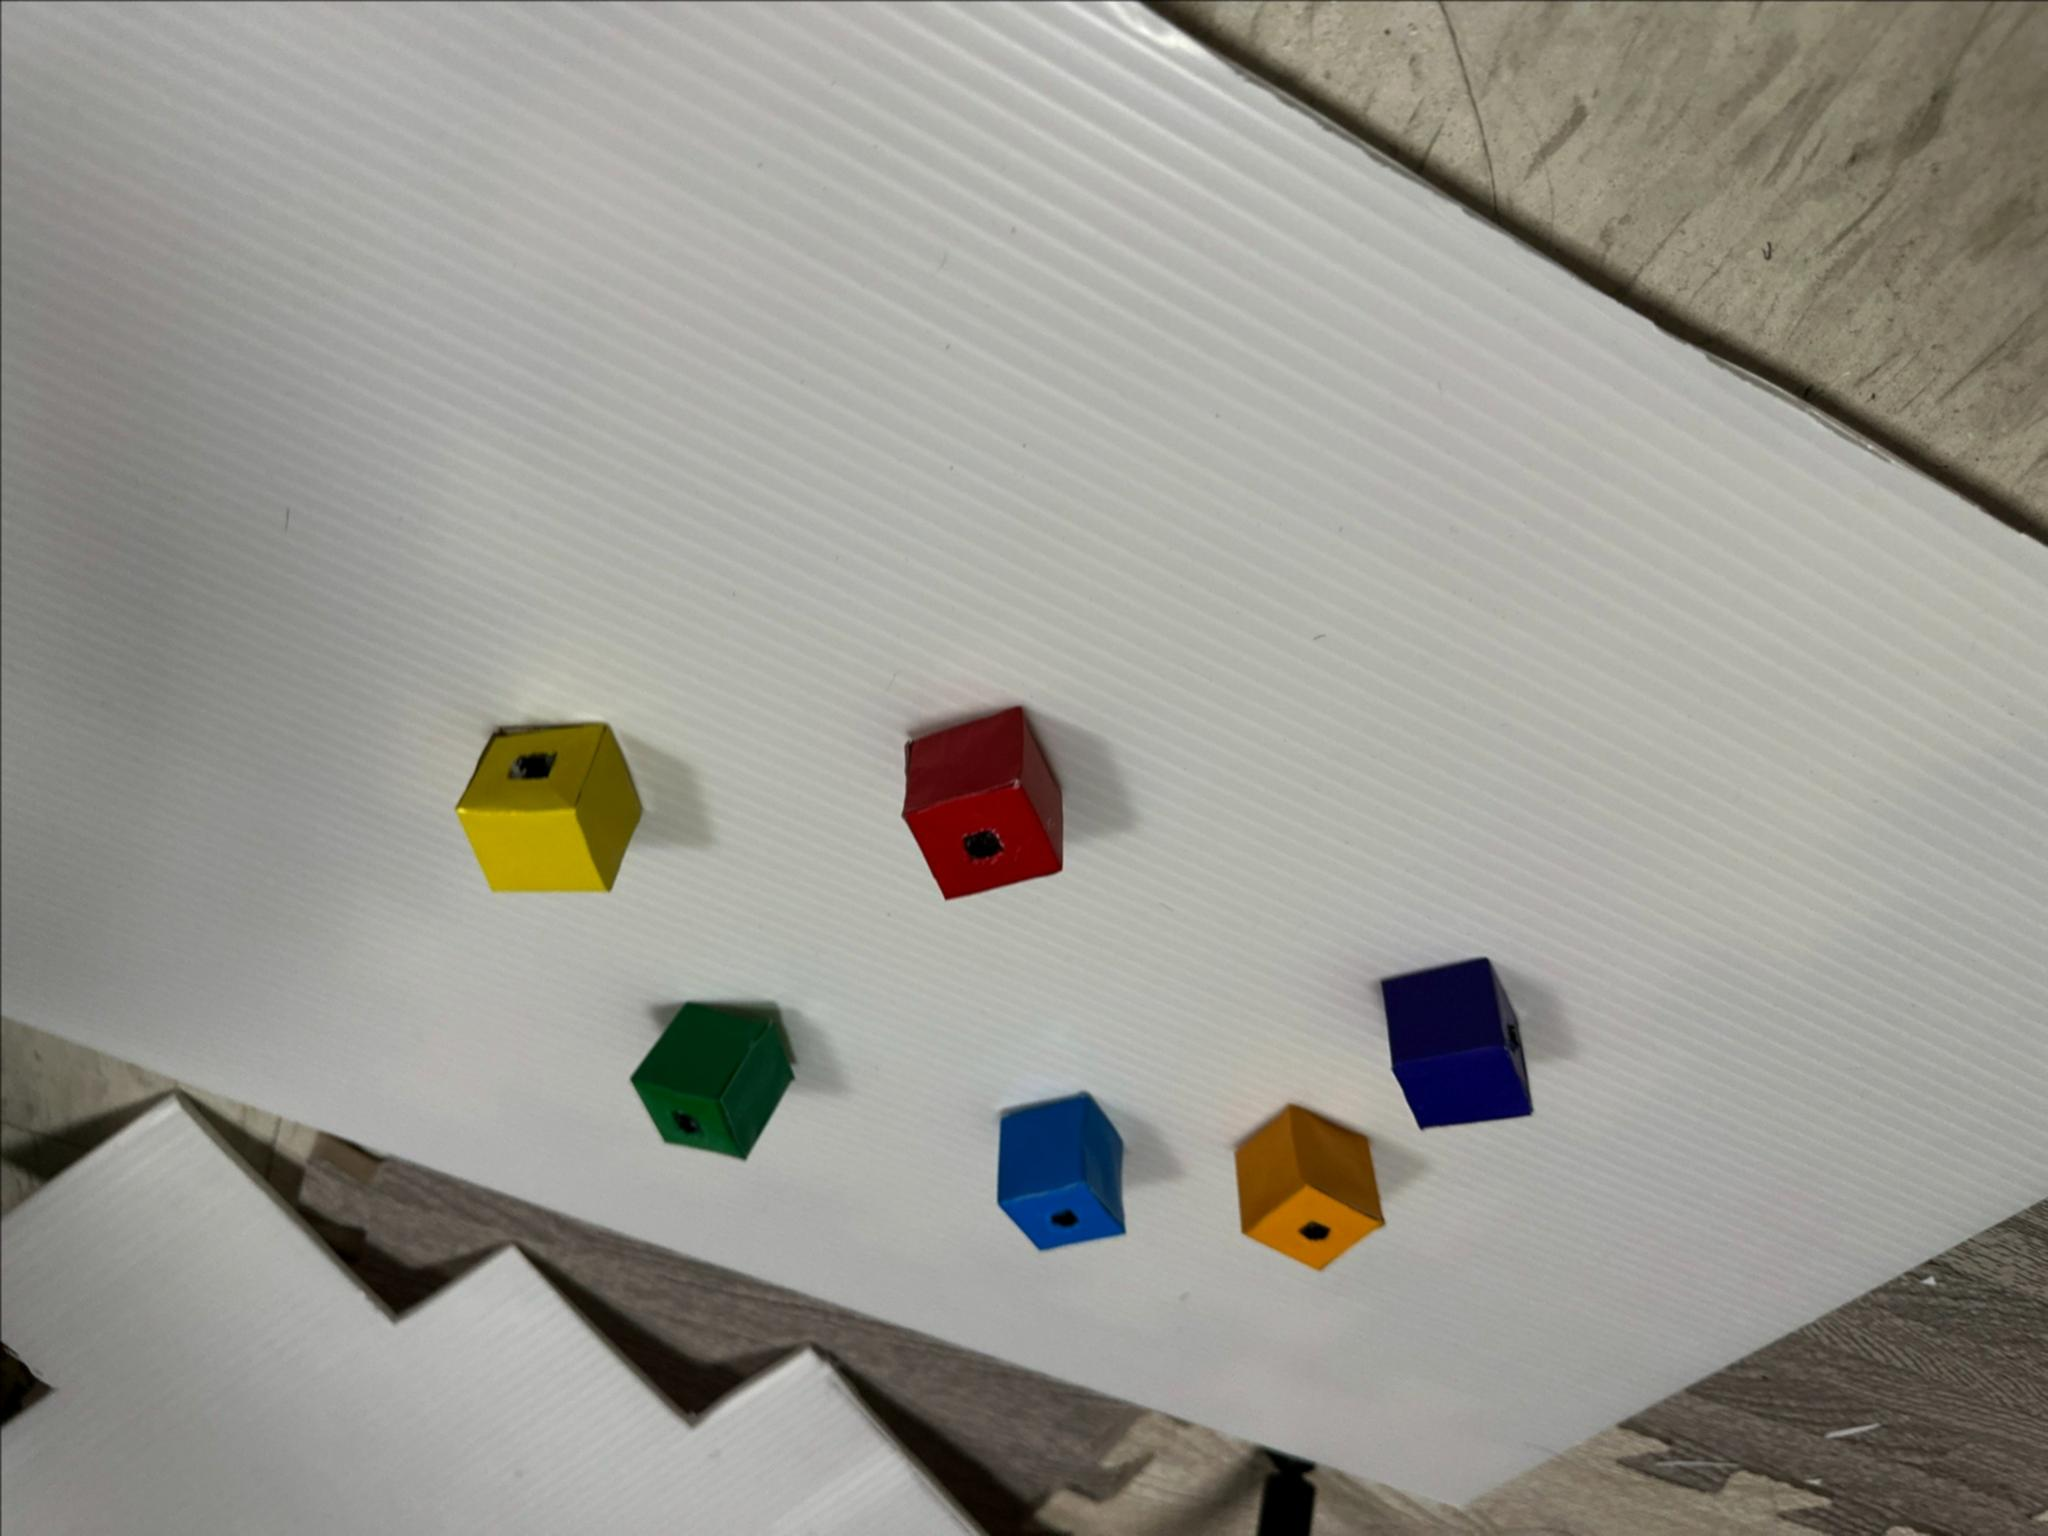cube: (456, 723, 639, 891), (903, 707, 1061, 899), (1382, 958, 1529, 1128), (632, 1005, 792, 1158), (1235, 1105, 1382, 1270), (997, 1096, 1124, 1249)
